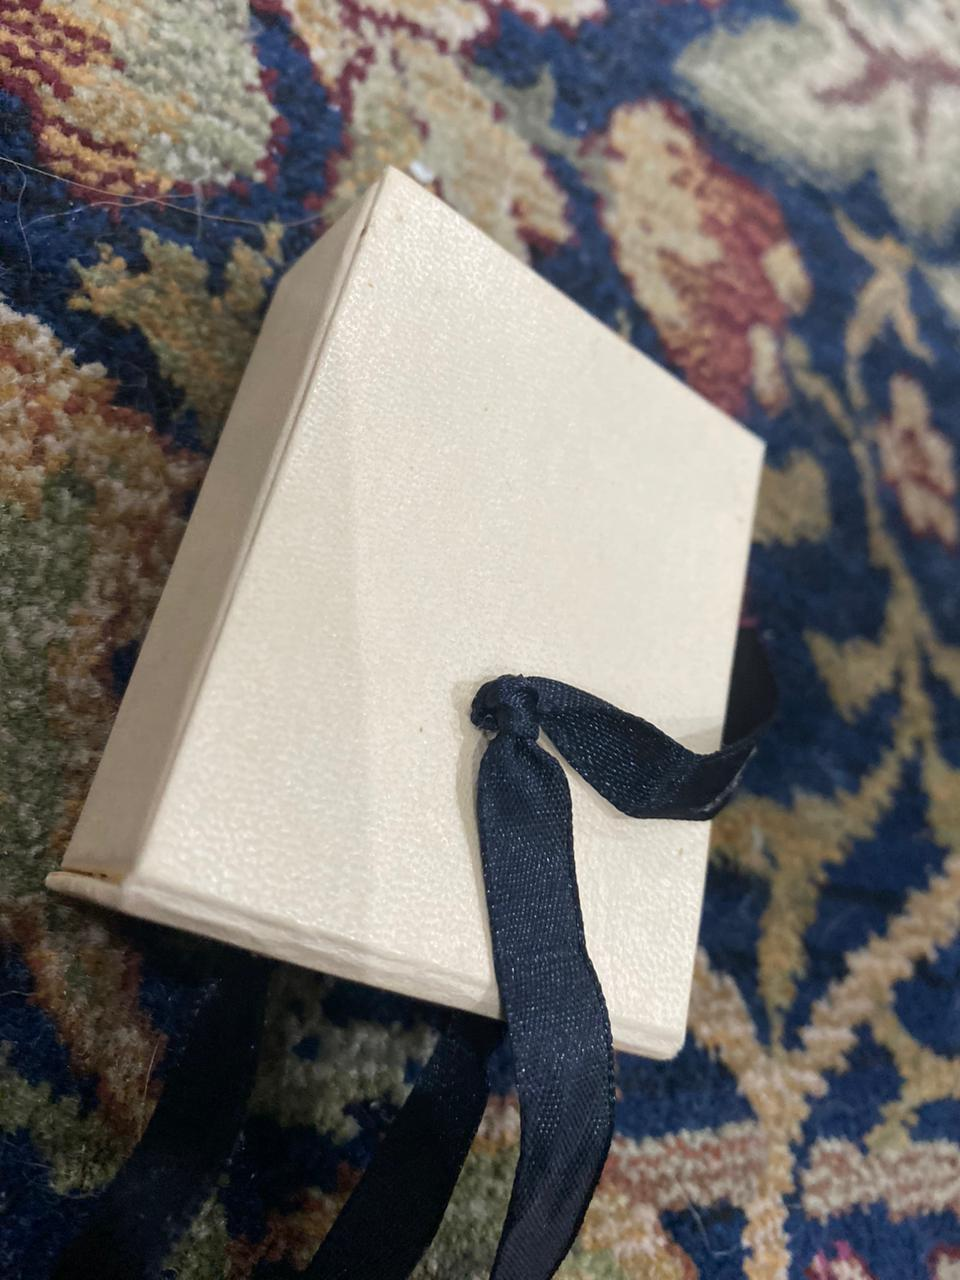Yellow Box: (49, 161, 773, 1086)
